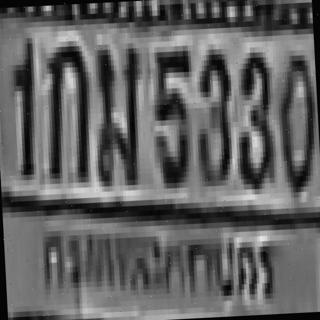A01: (40, 41, 92, 182)
A33: (90, 43, 144, 187)
N00: (274, 50, 318, 188)
N01: (9, 38, 38, 178)
N03: (191, 46, 235, 185), (234, 49, 274, 187)
N05: (149, 46, 195, 189)
P04: (33, 203, 278, 317)
